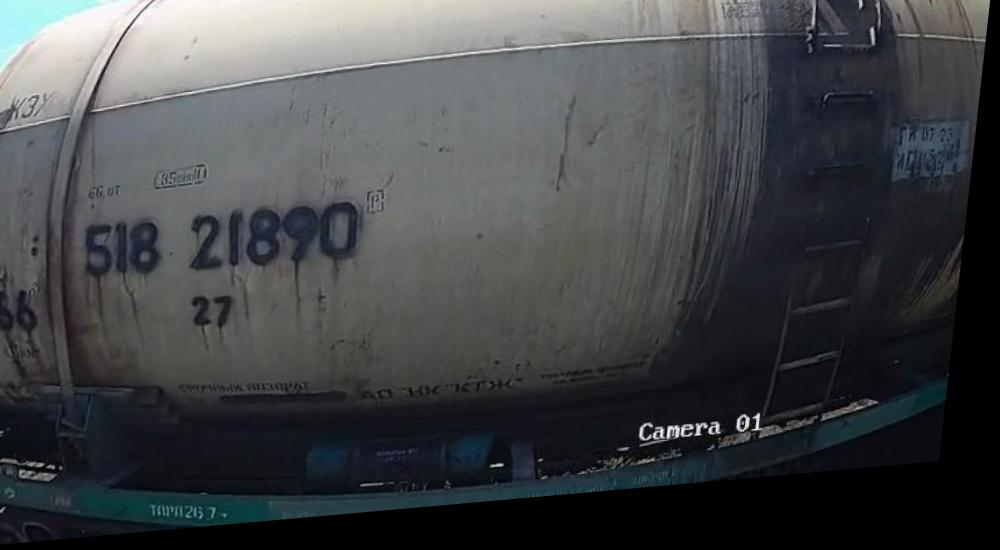Wagon-number: (83, 201, 373, 292)
